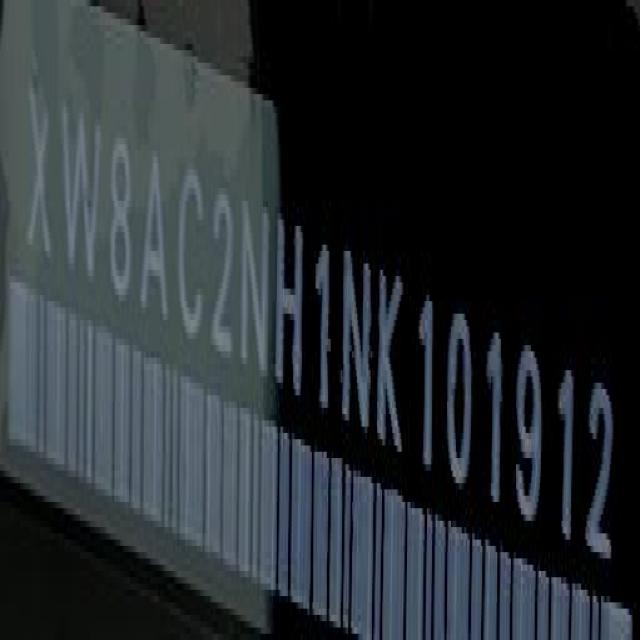0: (446, 300, 474, 496)
1: (558, 357, 576, 555), (315, 232, 333, 424), (486, 319, 503, 516), (421, 286, 435, 482)
2: (584, 374, 614, 570), (211, 184, 236, 368)
8: (112, 131, 135, 312)
9: (514, 342, 542, 531)
A: (139, 140, 165, 326)
C: (180, 161, 206, 351)
H: (277, 209, 302, 403)
K: (379, 255, 407, 465)
N: (240, 194, 270, 388), (342, 246, 372, 437)
W: (60, 95, 100, 298)
X: (27, 82, 52, 278)
